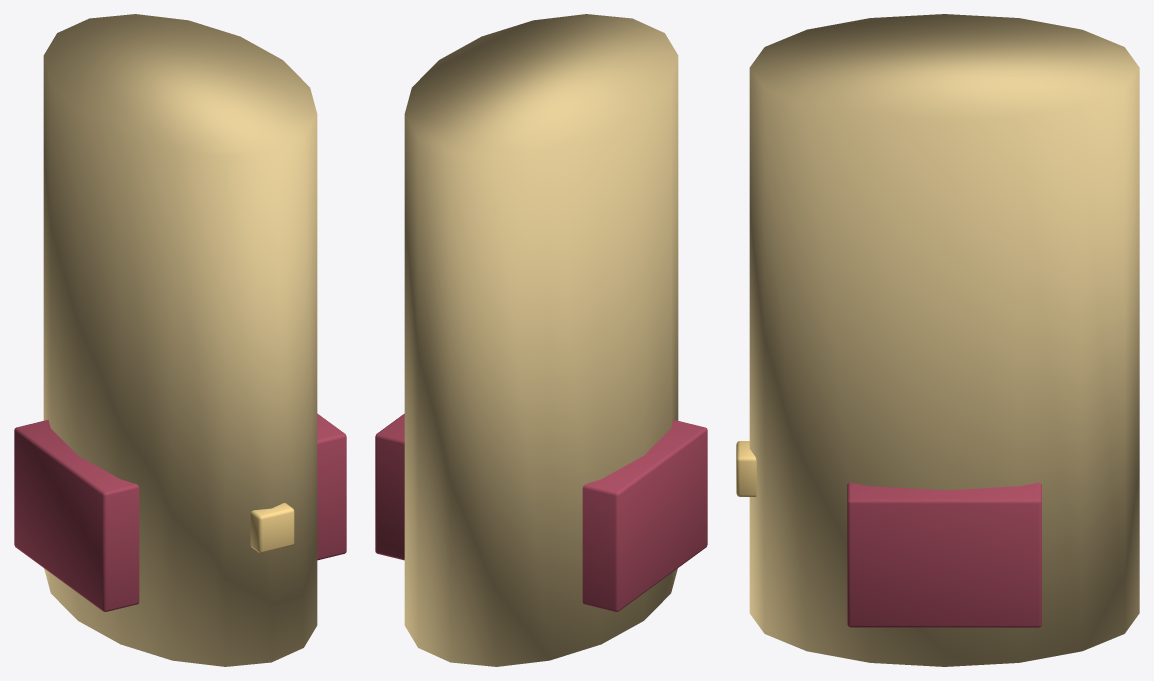
The model's file is opera_tiara_chest.glb.
The picture shows the model from 3 angles, left to right: view 1: azimuth 30°, elevation 25°; view 2: azimuth 150°, elevation 25°; view 3: azimuth 270°, elevation 25°; orthographic projection. The views are drawn at different scales.
Visible parts, largest first — view 1: chest_lid, chest_body, clasp; view 2: chest_lid, chest_body; view 3: chest_lid, chest_body, clasp.
Part boxes in pixels (<box>): chest_lid: <box>43,14,317,666</box>; chest_body: <box>14,413,346,611</box>; clasp: <box>250,503,294,552</box>; chest_lid: <box>404,14,678,666</box>; chest_body: <box>375,413,707,611</box>; chest_lid: <box>749,14,1139,666</box>; chest_body: <box>847,482,1041,627</box>; clasp: <box>736,441,756,496</box>.
Bounding box in the file's own units: 1.7 × 3.4 × 2.28.
